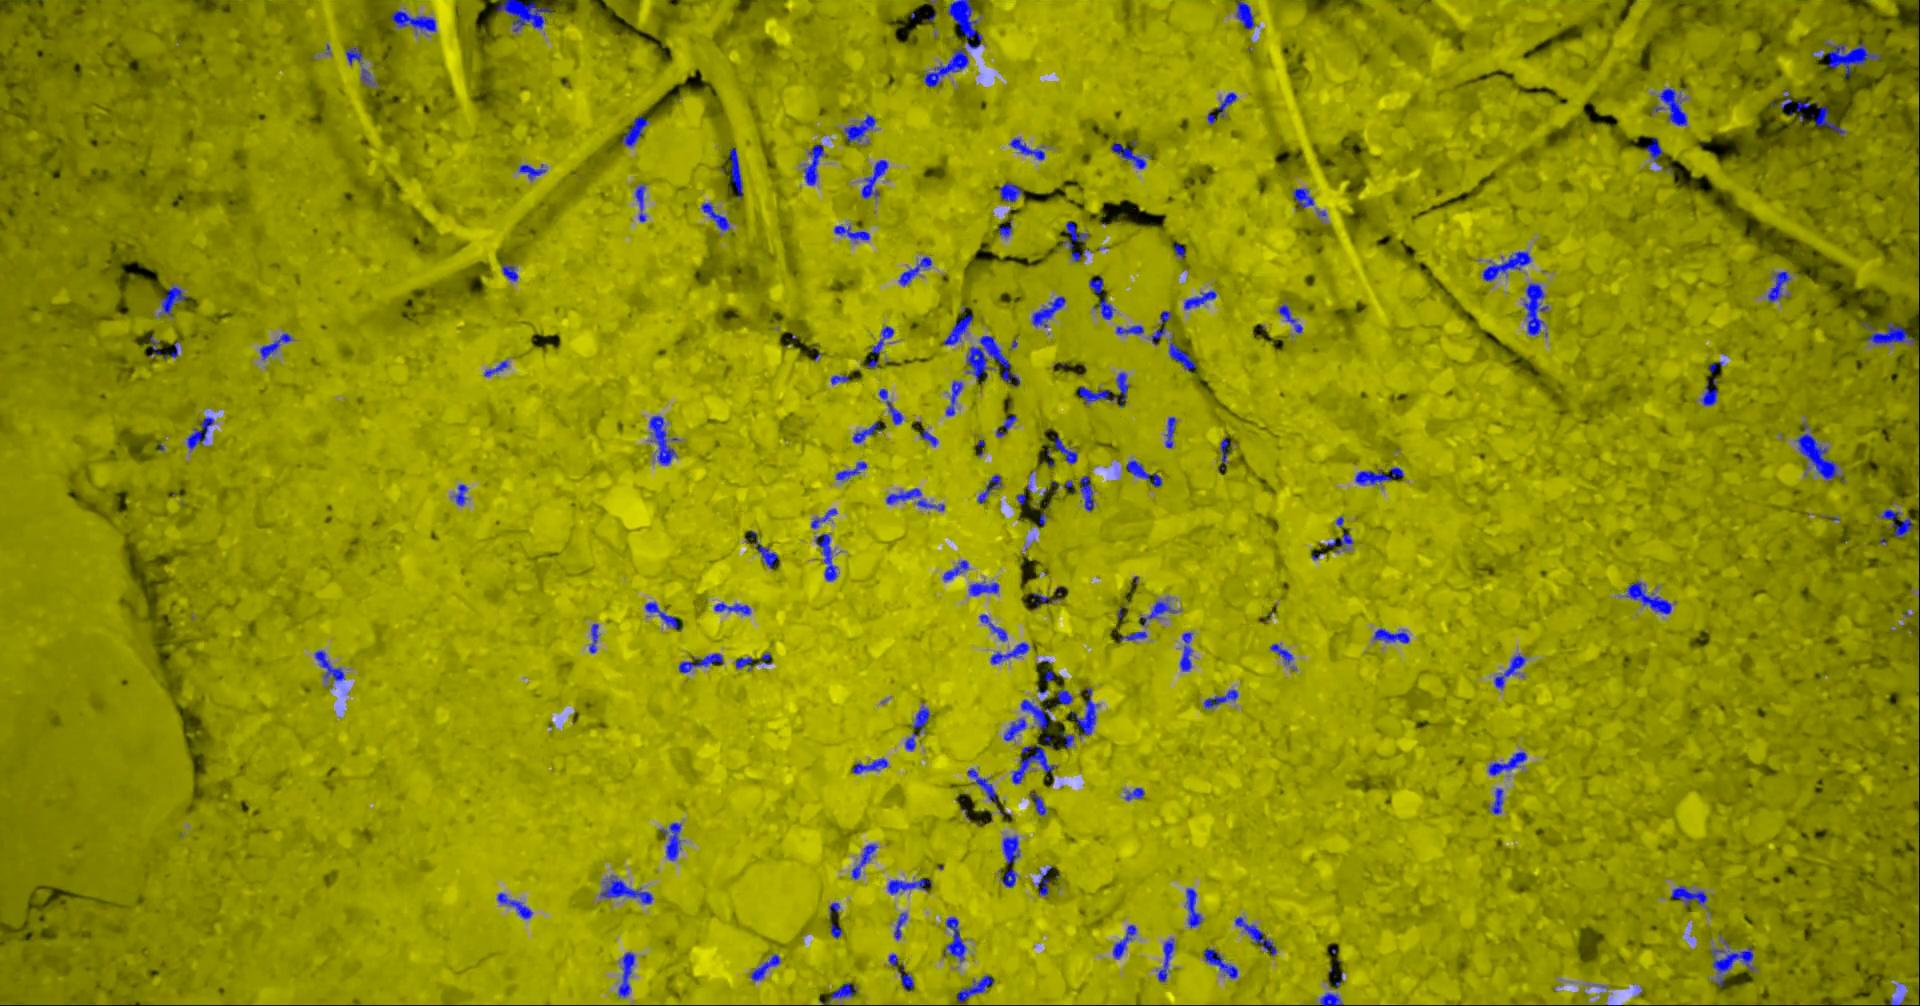ant: (966, 335, 1018, 385), (1796, 423, 1837, 480), (1821, 41, 1881, 77), (1710, 939, 1752, 986), (923, 46, 968, 86), (1011, 743, 1057, 782), (1862, 321, 1919, 352), (495, 0, 551, 30), (1078, 372, 1128, 406), (947, 0, 982, 48), (1234, 916, 1276, 955), (1625, 580, 1671, 614), (599, 875, 651, 903), (885, 486, 943, 511), (1482, 251, 1531, 279), (1070, 686, 1098, 735), (1523, 282, 1548, 335), (649, 415, 676, 464), (1652, 88, 1686, 124), (1878, 508, 1919, 537), (1493, 653, 1525, 688), (1062, 221, 1090, 260), (904, 706, 930, 749), (391, 9, 436, 33), (861, 159, 888, 198), (1031, 296, 1065, 326), (968, 768, 998, 803), (943, 916, 966, 962), (1203, 948, 1237, 978), (815, 533, 837, 580), (1810, 105, 1844, 135), (850, 843, 877, 879), (1139, 598, 1176, 625), (1020, 699, 1051, 729), (803, 144, 825, 185), (1487, 751, 1526, 775), (497, 892, 532, 918), (957, 976, 993, 1002), (877, 387, 903, 424), (314, 650, 344, 681), (1208, 91, 1236, 124), (898, 257, 931, 285), (259, 332, 292, 359), (1126, 460, 1161, 486), (843, 114, 875, 142), (159, 285, 187, 316), (185, 417, 213, 448), (1111, 142, 1145, 168), (644, 602, 678, 627), (990, 641, 1029, 664), (943, 314, 971, 344), (678, 653, 723, 672), (1354, 467, 1403, 484), (621, 116, 648, 146), (1112, 923, 1135, 958), (701, 202, 729, 230), (979, 614, 1007, 641), (660, 822, 681, 860), (888, 876, 931, 894), (1157, 937, 1175, 981), (617, 951, 634, 997), (1168, 342, 1195, 370), (750, 954, 778, 981), (1010, 137, 1044, 159), (728, 147, 742, 199), (1768, 271, 1790, 302), (1185, 887, 1203, 927), (1324, 527, 1352, 553), (1277, 304, 1302, 333), (977, 474, 1001, 503), (1150, 310, 1171, 344), (852, 420, 883, 443), (1032, 586, 1063, 608), (1203, 688, 1238, 708), (1054, 436, 1077, 464), (754, 540, 777, 568), (945, 380, 963, 415), (1671, 887, 1707, 904), (1183, 290, 1217, 309), (871, 326, 893, 354), (836, 461, 866, 480), (1236, 0, 1255, 29), (852, 758, 888, 774), (1178, 633, 1192, 671), (1269, 643, 1293, 664), (810, 508, 836, 528), (942, 560, 968, 580), (1373, 627, 1410, 641), (833, 225, 869, 239), (1079, 475, 1093, 511), (1003, 718, 1025, 741), (1093, 295, 1114, 319), (1217, 437, 1230, 471), (634, 185, 646, 222), (518, 163, 546, 179), (1700, 377, 1717, 405), (1002, 835, 1018, 862), (998, 182, 1022, 201), (830, 982, 857, 998), (1291, 188, 1313, 208), (712, 602, 750, 614), (1644, 137, 1662, 161), (1029, 791, 1046, 815), (968, 580, 998, 594), (1788, 102, 1810, 121), (996, 414, 1015, 436), (1037, 866, 1051, 895), (483, 359, 507, 376), (1055, 683, 1072, 706), (897, 967, 913, 989), (893, 912, 907, 939), (1490, 788, 1502, 814), (999, 868, 1016, 887), (1164, 417, 1175, 447), (588, 622, 598, 653), (1319, 992, 1343, 1005), (453, 484, 467, 506), (735, 655, 757, 669), (345, 46, 362, 64), (361, 69, 378, 85), (919, 429, 937, 446), (1119, 631, 1147, 641), (1088, 276, 1103, 293), (1124, 788, 1144, 800), (502, 263, 517, 279), (1115, 325, 1143, 334), (1059, 730, 1073, 748), (149, 335, 160, 354), (998, 221, 1011, 238), (830, 373, 850, 384), (1173, 243, 1185, 258), (830, 923, 841, 937)
